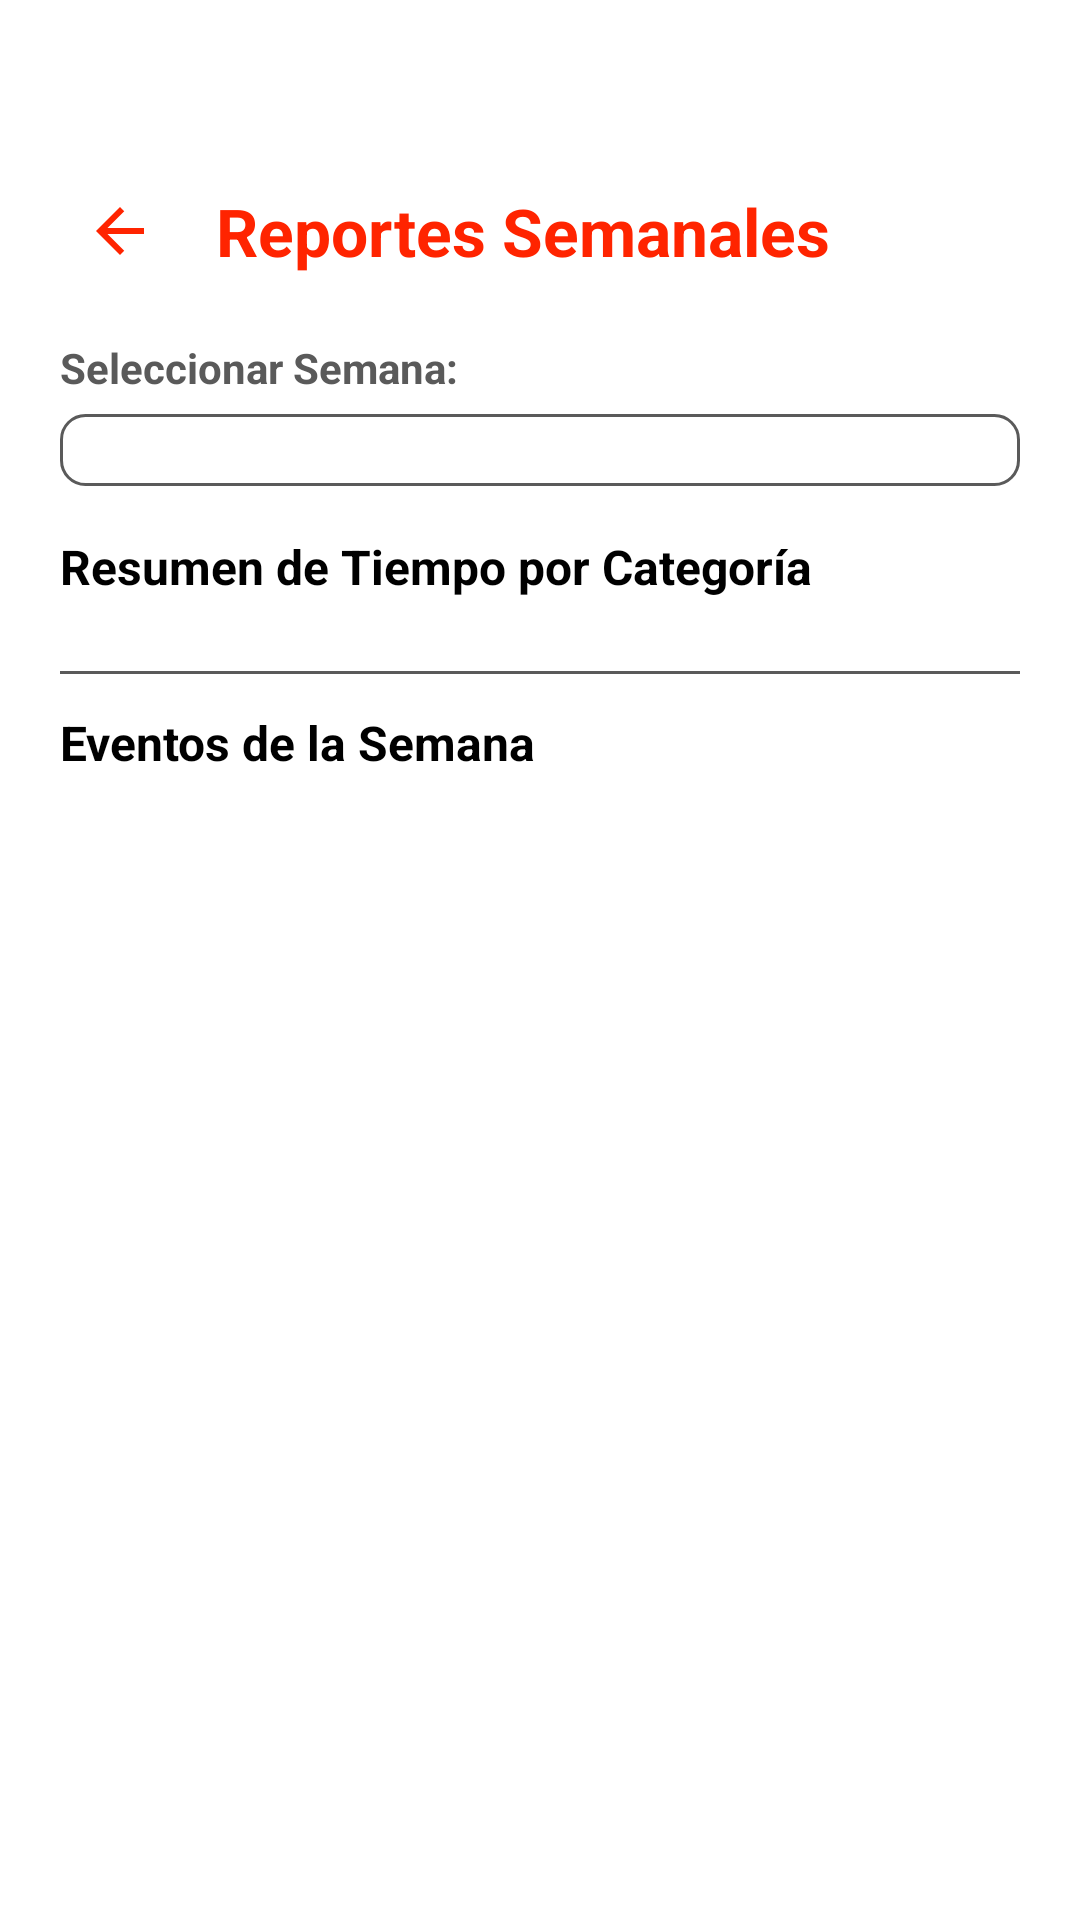

Screen size 1080px x 1920px. Icon name, then its center in pixels as [x,y]:
Volver: [120,231]
